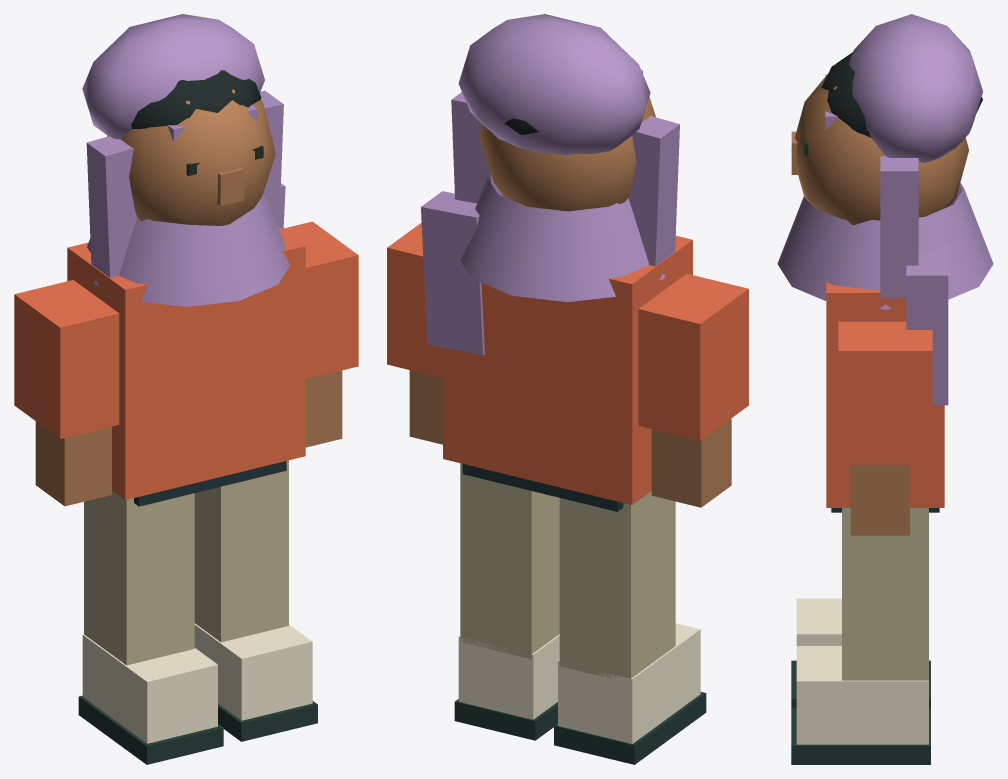
File: male-tudung-satin.glb
3 renders of one model, left to right at view 1: azimuth 30°, elevation 25°; view 2: azimuth 150°, elevation 25°; view 3: azimuth 270°, elevation 25°, orthographic. The views are drawn at different scales.
Visible parts, largest first — view 1: male-tudung-satin, avatar-tudung, tudung-neck-wrap; view 2: male-tudung-satin, avatar-tudung, tudung-neck-wrap; view 3: male-tudung-satin, avatar-tudung, tudung-neck-wrap.
Boxes of the visible parts, bbox=[...] form: male-tudung-satin: bbox=[14, 70, 358, 764]; avatar-tudung: bbox=[82, 14, 285, 277]; tudung-neck-wrap: bbox=[87, 191, 290, 306]; male-tudung-satin: bbox=[387, 97, 748, 764]; avatar-tudung: bbox=[421, 14, 679, 355]; tudung-neck-wrap: bbox=[460, 175, 665, 301]; male-tudung-satin: bbox=[791, 51, 982, 764]; avatar-tudung: bbox=[825, 14, 982, 405]; tudung-neck-wrap: bbox=[777, 183, 993, 309].
Size of the model in its own units: 1.01 by 2.2 by 0.62.
